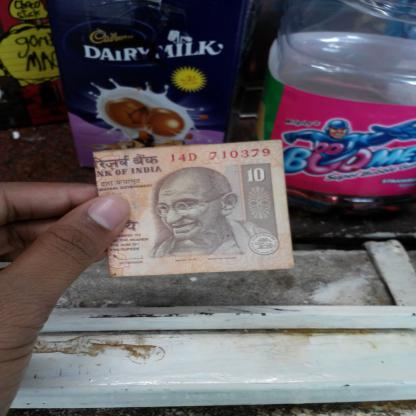Old10Front: (92, 140, 294, 276)
